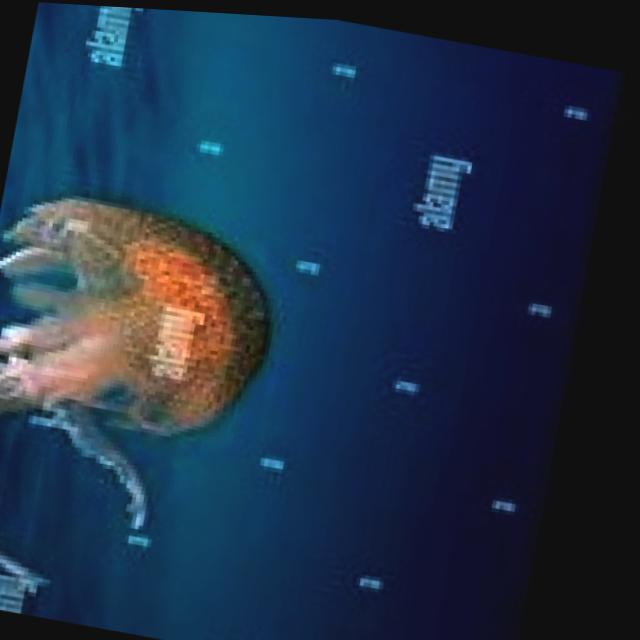Box-jellyfish: (0, 173, 290, 624)
